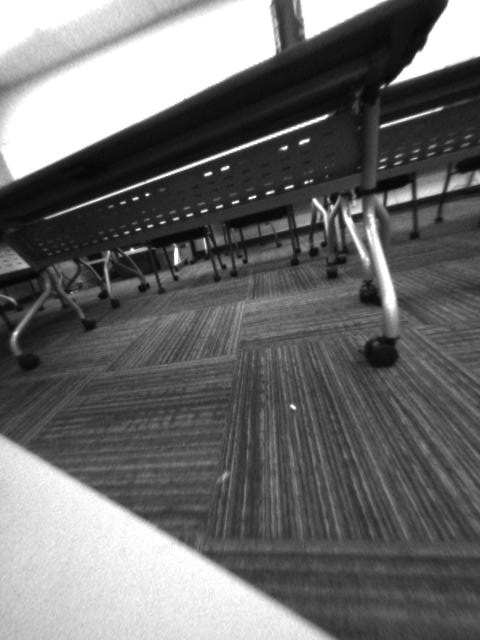can: (265, 1, 313, 59)
